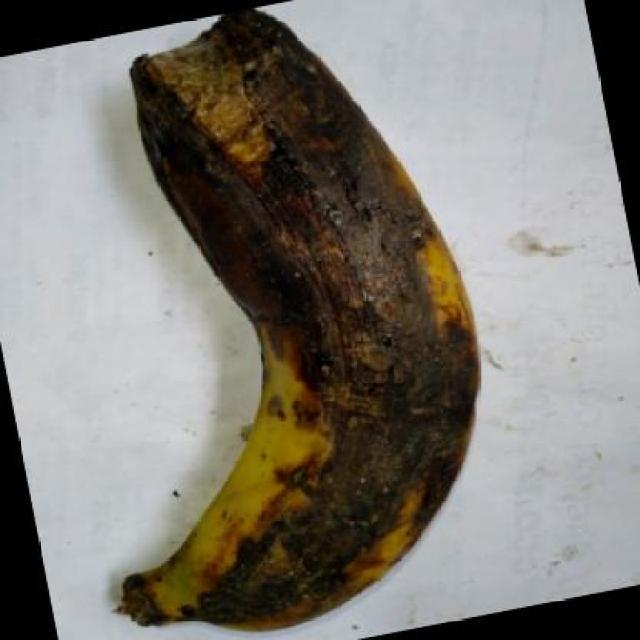rotten: (50, 0, 493, 634)
